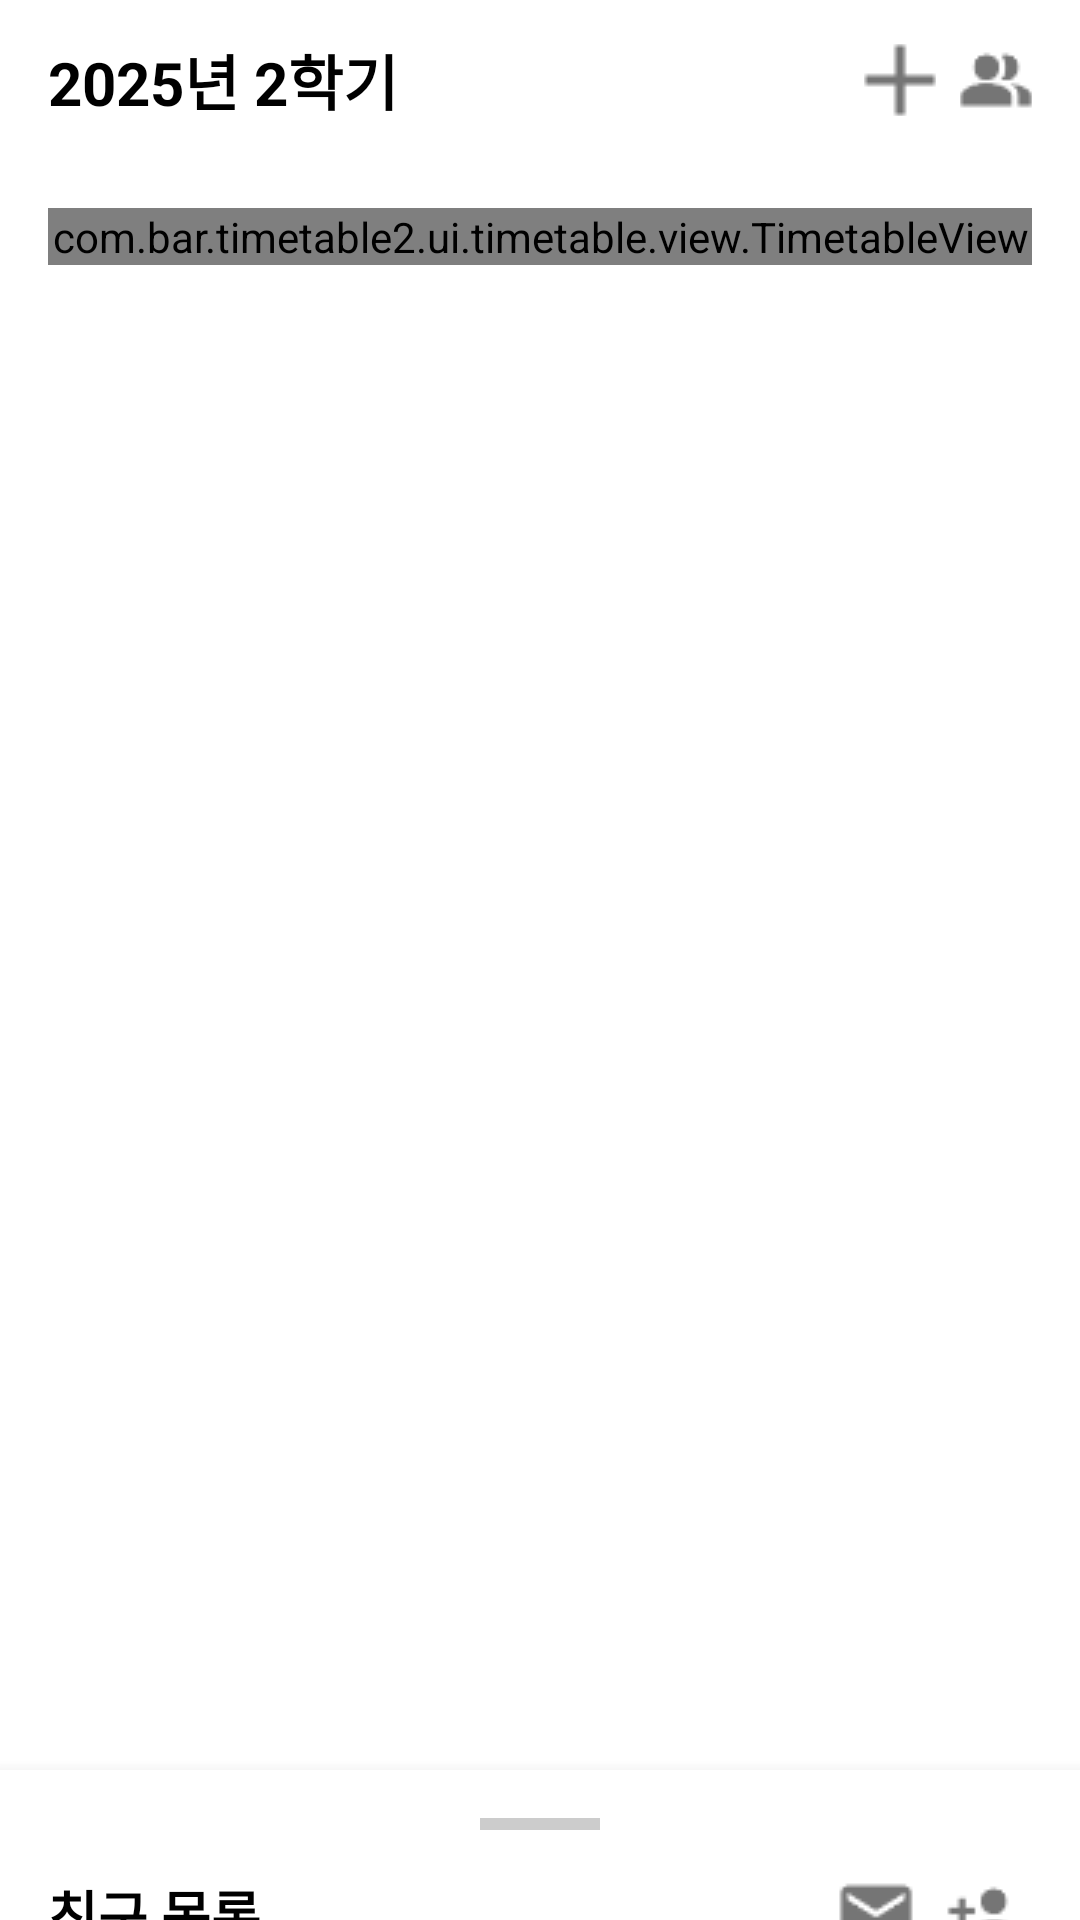

Icons on this 1080px×1920px Android screen, each with its box as box(x1, y1, x2, y2):
수업 추가: box(864, 44, 936, 116)
친구 목록: box(960, 53, 1032, 108)
